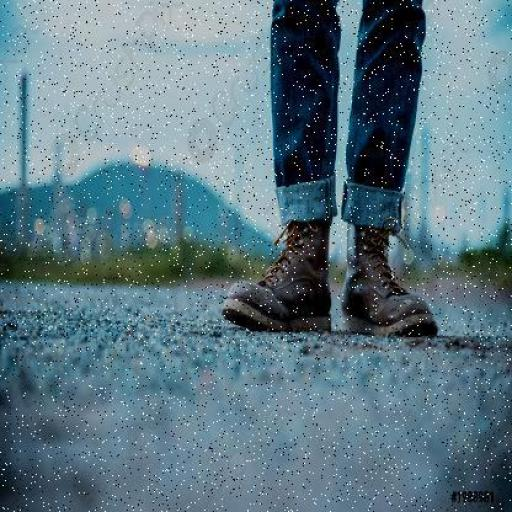safety_shoe: (227, 215, 331, 334), (338, 222, 434, 338)
